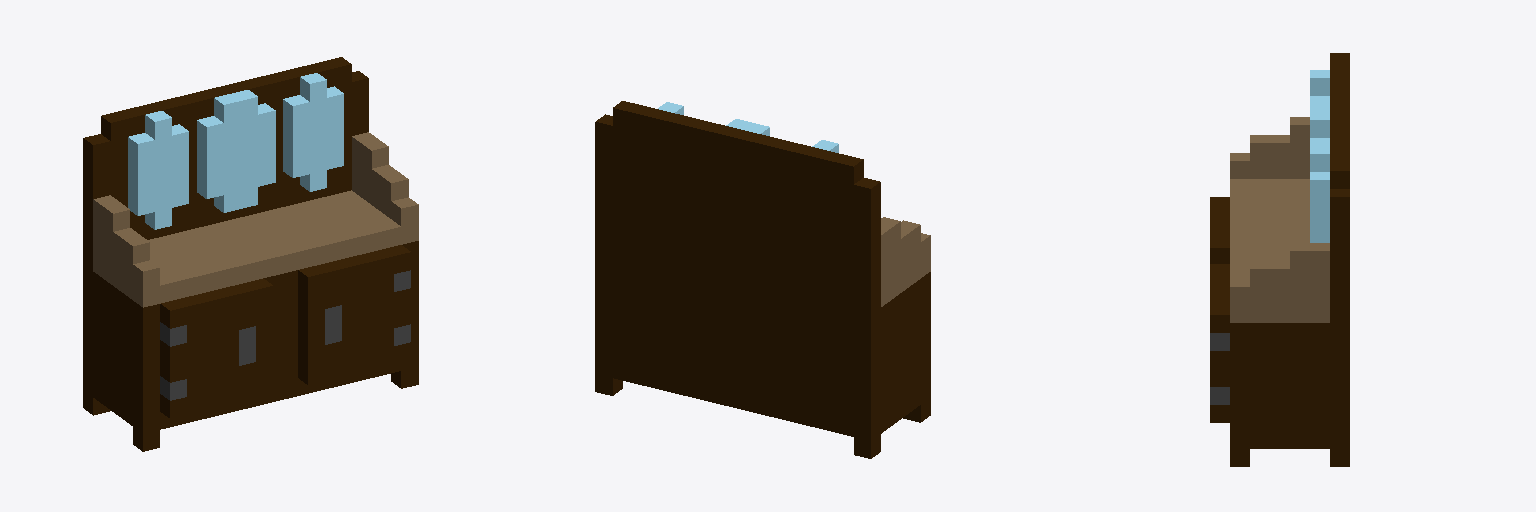
3 views of the same model, side by side, from view 1: azimuth 30°, elevation 25°; view 2: azimuth 150°, elevation 25°; view 3: azimuth 270°, elevation 25° (orthographic).
Parts seen in each view (by area): view 1: cupboard_w_mirror; view 2: cupboard_w_mirror; view 3: cupboard_w_mirror.
Boxes of the visible parts, x1=… form: cupboard_w_mirror: x1=83, y1=57, x2=418, y2=451; cupboard_w_mirror: x1=595, y1=101, x2=930, y2=458; cupboard_w_mirror: x1=1210, y1=53, x2=1349, y2=466.
Size of the model in its own units: 16 by 16 by 7.
1 materials, 1 textured.